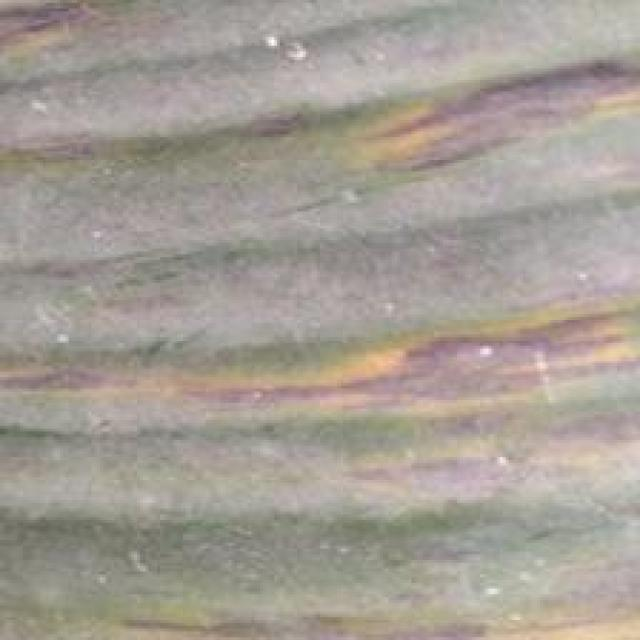Early_leaf_spot: (162, 303, 640, 446), (326, 51, 640, 168), (114, 588, 639, 640), (4, 124, 124, 204), (0, 354, 156, 414), (0, 0, 128, 54)
